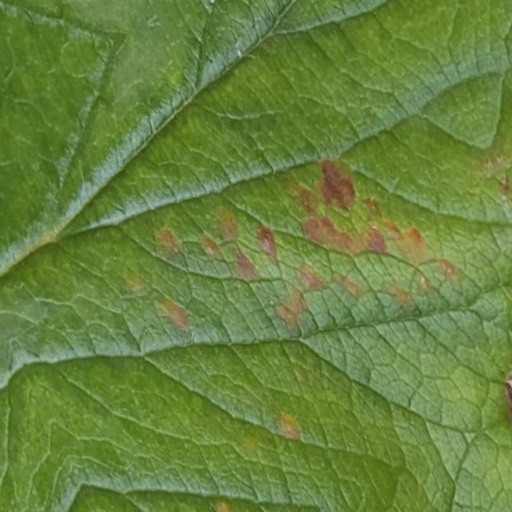Angular Leafspot: (98, 182, 442, 491)
